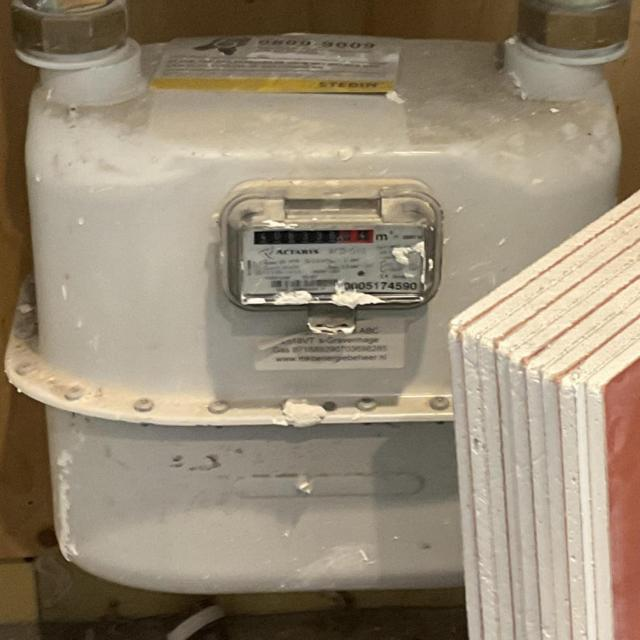gaz_meter: (240, 221, 428, 301)
indication: (253, 226, 375, 245)
